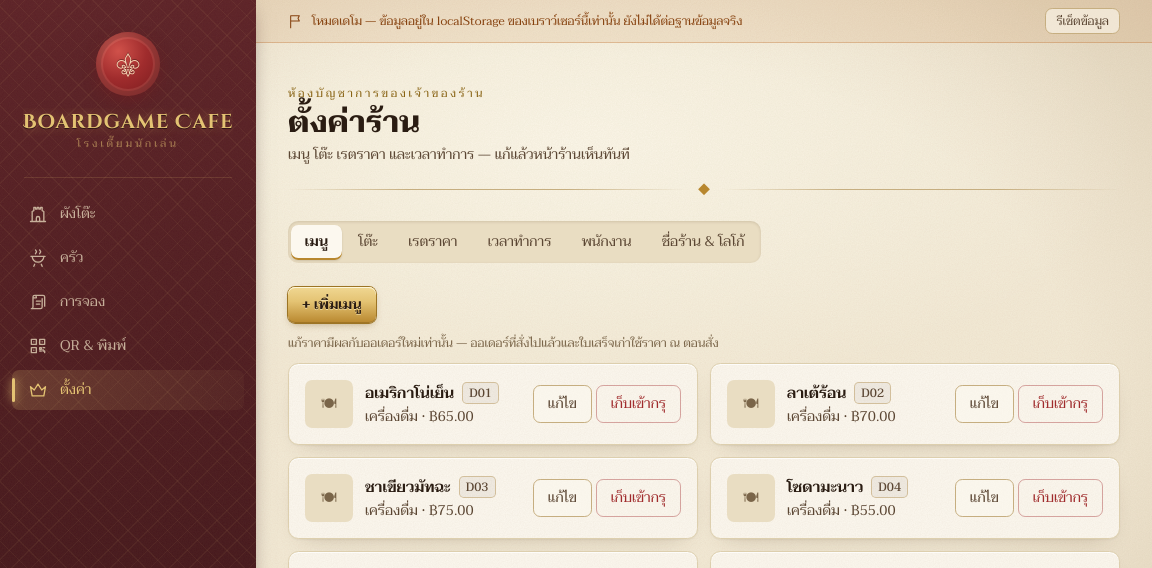
Scenario: หน้าตั้งค่าร้าน › สลับไปแท็บเรตราคาแล้วเห็นคำเตือนว่าไม่กระทบคนที่นั่งอยู่
Click the button "เรตราคา".
click(433, 242)  # box [395,225,471,260]
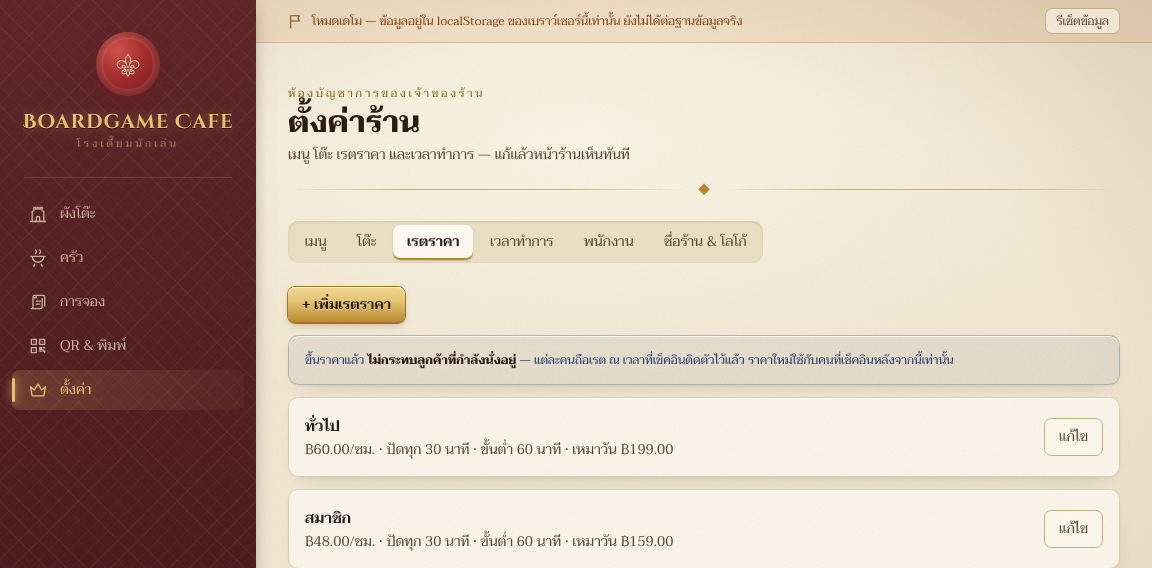
Expected: the text "ไม่กระทบลูกค้าที่กำลังนั่งอยู่" is shown, [367,350,516,370]
Expected: the text "สมาชิก" is shown, [305,506,351,530]
